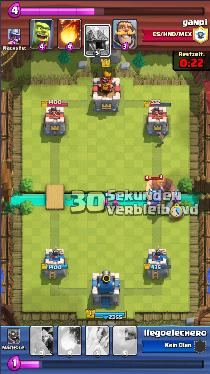ally_archer: (110, 200, 120, 214), (101, 199, 109, 211)
ally_knight: (146, 192, 160, 210)
ally_musketeer: (167, 195, 182, 212)
enemy_giant: (145, 177, 177, 199)
